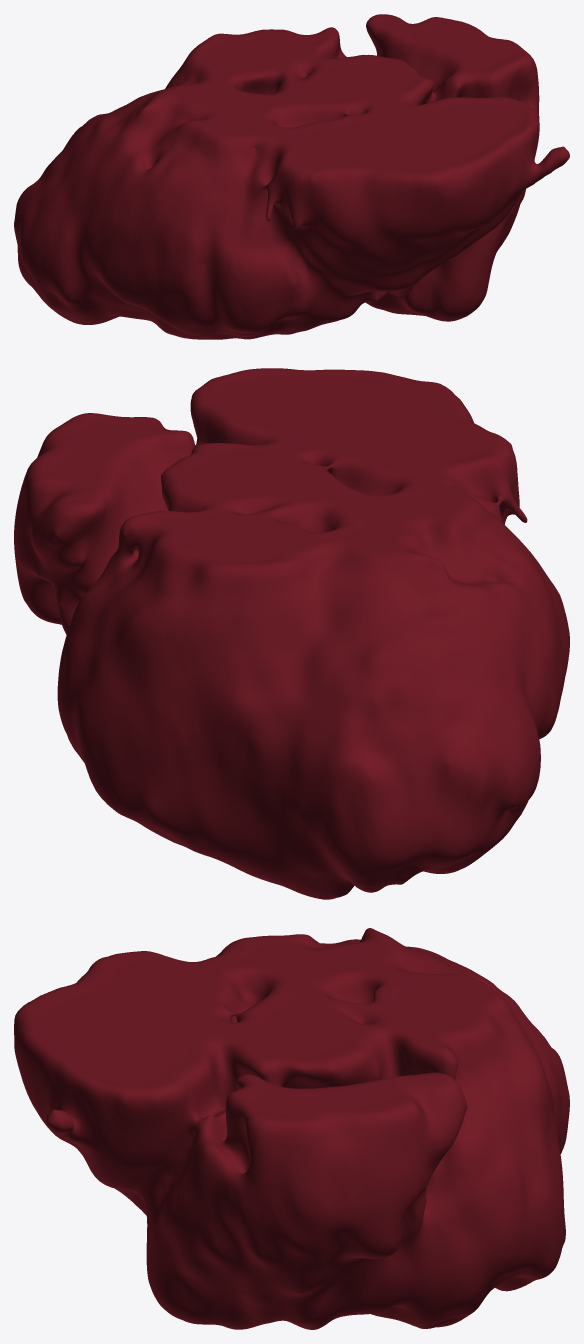
File: abdomen_heart.fbx
The picture shows the model from 3 angles, top to bottom: view 1: azimuth 30°, elevation 25°; view 2: azimuth 150°, elevation 25°; view 3: azimuth 270°, elevation 25°; orthographic projection. The views are drawn at different scales.
Parts seen in each view (by area): view 1: abdomen_heart; view 2: abdomen_heart; view 3: abdomen_heart.
Boxes of the visible parts, x1,y1,x2,y2 form: abdomen_heart: [14, 14, 569, 339]; abdomen_heart: [14, 368, 569, 899]; abdomen_heart: [14, 928, 569, 1329].
Bounding box in the file's own units: 16.41 × 9.05 × 14.6.
